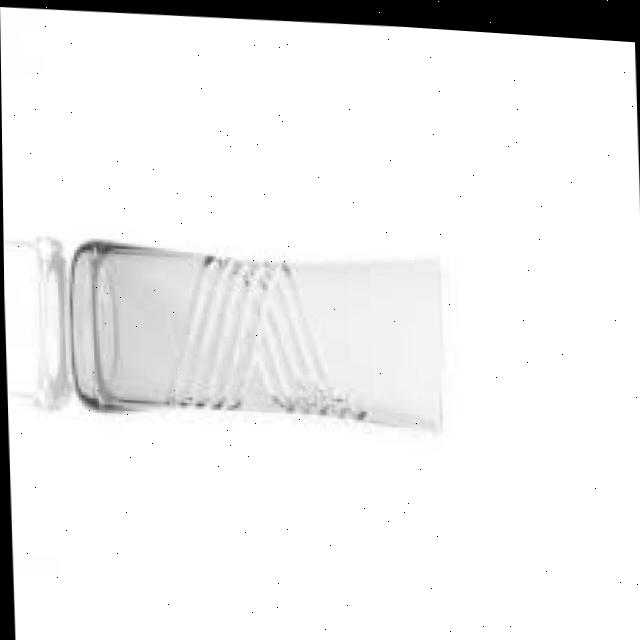Dry: (54, 216, 454, 443)
